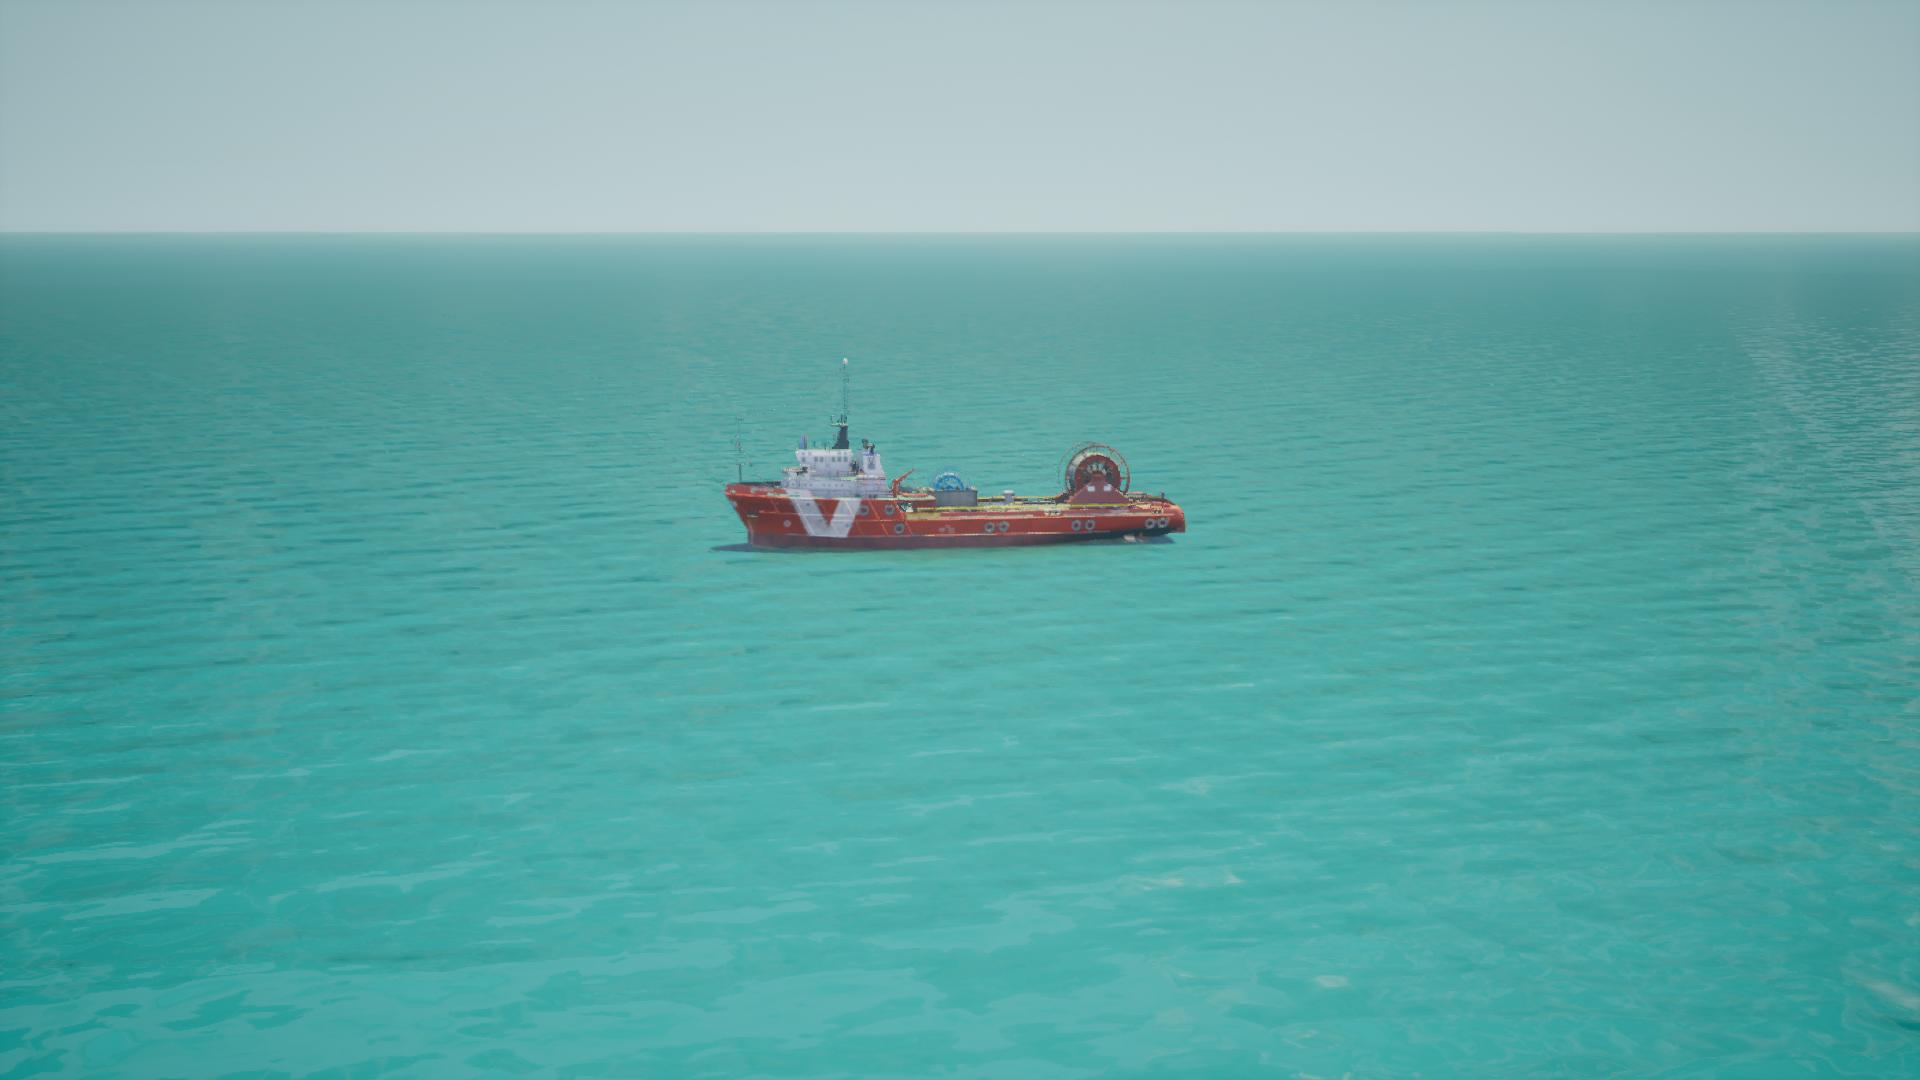Tug Boat: (716, 364, 1185, 559)
